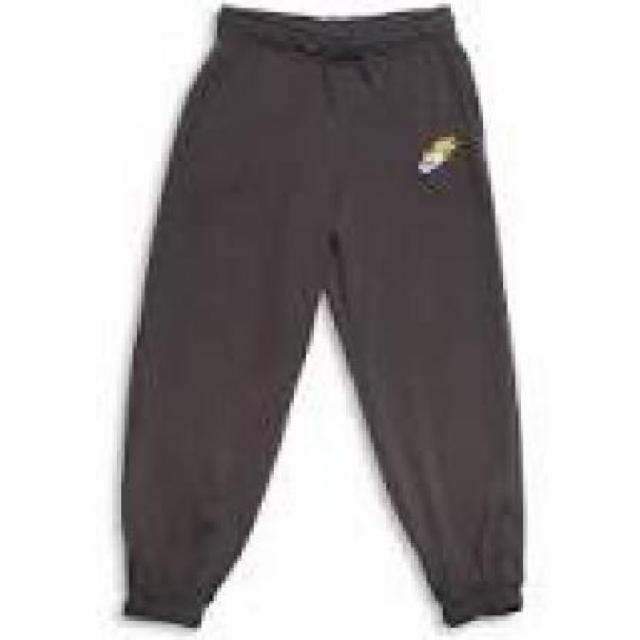pants: (113, 2, 531, 626)
